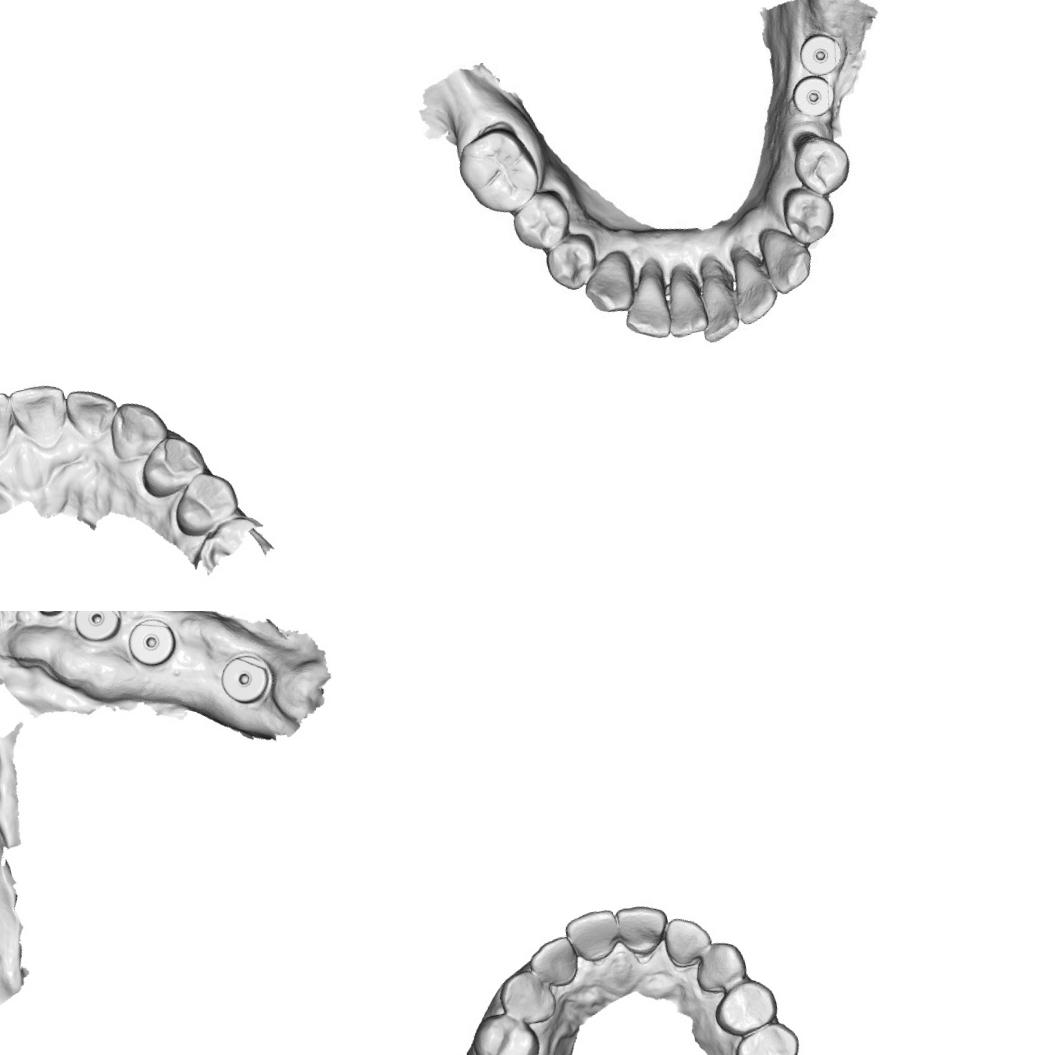canine: (102, 392, 176, 466), (493, 964, 561, 1032), (758, 221, 818, 298), (577, 248, 640, 320), (688, 936, 751, 996)
implant: (212, 648, 280, 710), (122, 614, 181, 670), (792, 27, 844, 77), (68, 611, 127, 647), (790, 74, 836, 117), (28, 611, 73, 620)
incisor: (4, 376, 78, 456), (613, 254, 674, 348), (724, 250, 784, 329), (689, 270, 744, 348), (610, 897, 676, 961), (61, 382, 124, 448), (561, 904, 624, 968), (522, 933, 584, 993), (658, 910, 718, 972), (658, 264, 706, 340), (0, 388, 21, 465)
molar: (452, 122, 542, 220)
premolar: (164, 462, 244, 542), (132, 429, 212, 502), (784, 125, 853, 201), (706, 974, 782, 1042), (504, 186, 575, 258), (776, 180, 839, 249), (538, 230, 600, 297), (465, 1005, 545, 1055), (727, 1017, 806, 1055)
